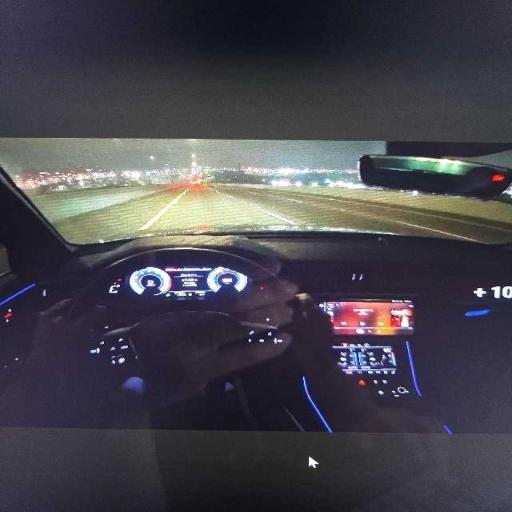car: (0, 140, 511, 488)
lane: (56, 185, 505, 243), (258, 188, 503, 242), (55, 188, 186, 243), (148, 186, 294, 231), (140, 188, 190, 230)
